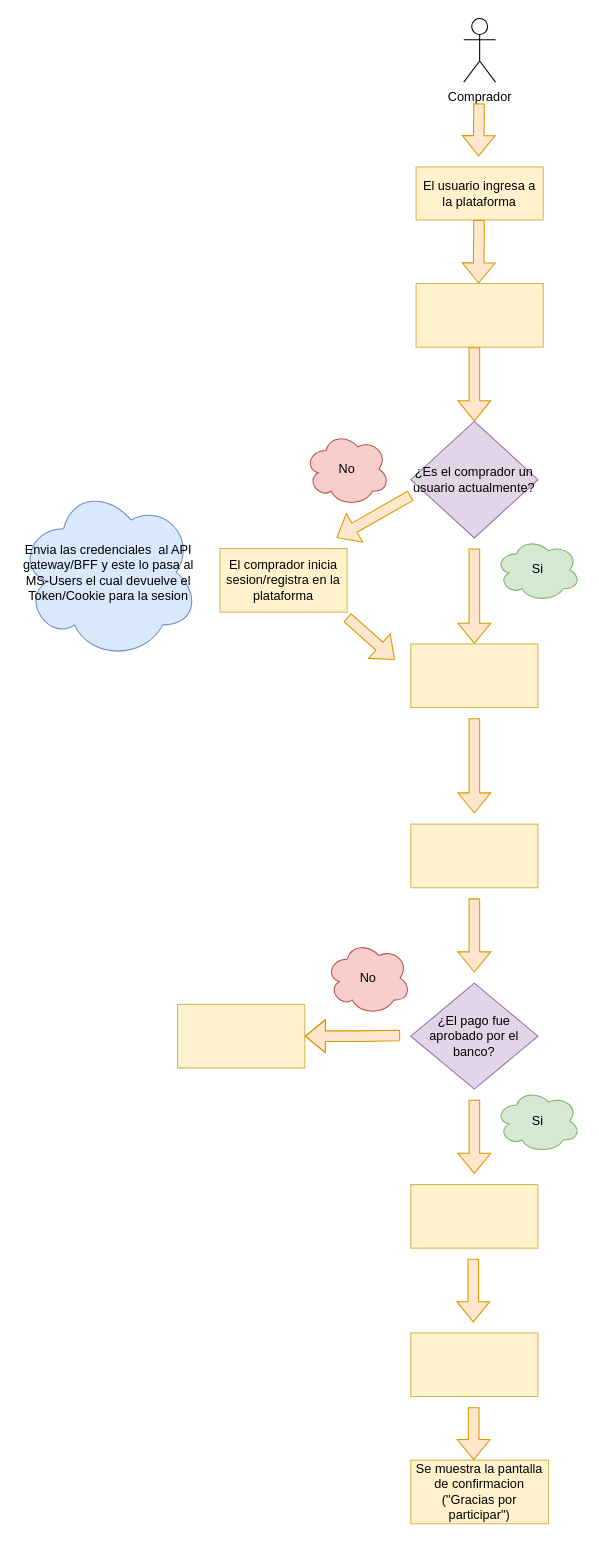
Some shapes in this 599 by 1542 pixel diagram are drawn without their labels. Each missing label, with the centre of its shape:
El backend cambia el estado de la orden a "Pagada" y guarda el ticket en la bd: the point at 474,1215
El sistema genera la orden de compra en "Pendiente": the point at 474,675
El usuario navega en la plataforma y decide comprar un ticket: the point at 479,314
Muestra pantalla de error y permite reintentar: the point at 240,1035
Se genera el ticket en PDF y se envia automaticamente por correo: the point at 474,1364
Se redirige al usuario a la pasarela de pago de Webpay: the point at 474,855
